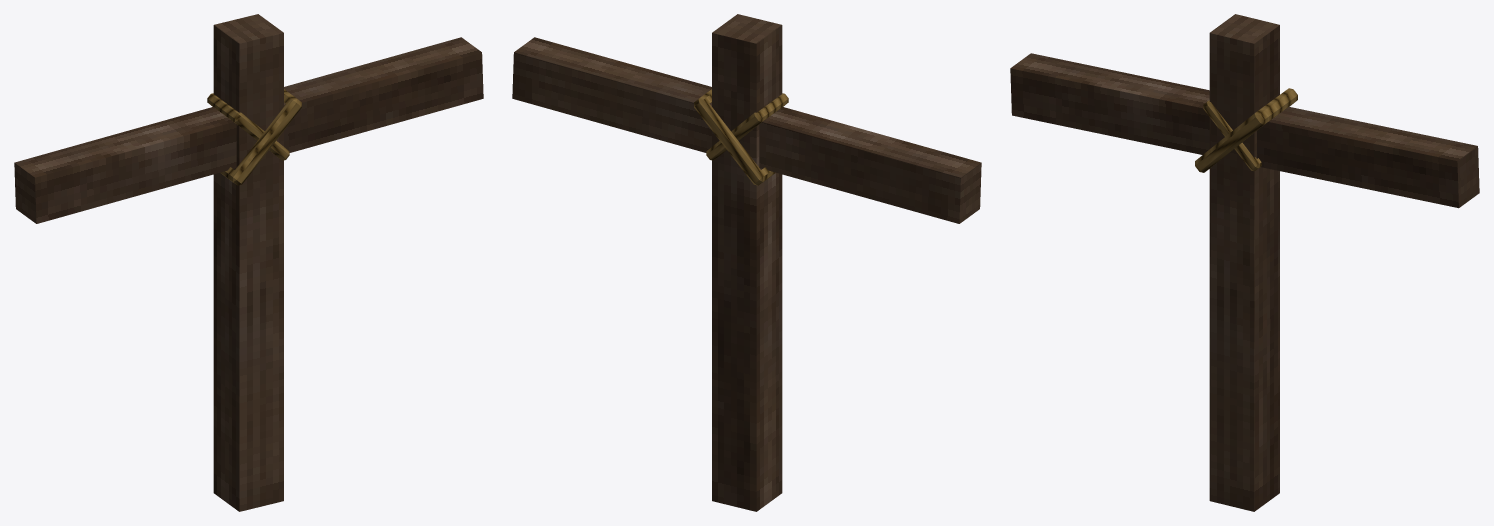
File: Grave_Cross.fbx
The picture shows the model from 3 angles, left to right: view 1: azimuth 30°, elevation 25°; view 2: azimuth 150°, elevation 25°; view 3: azimuth 330°, elevation 25°; orthographic projection.
Visible parts, largest first — view 1: Grave_Cross; view 2: Grave_Cross; view 3: Grave_Cross.
Boxes of the visible parts, bbox=[...] form: Grave_Cross: bbox=[14, 14, 483, 511]; Grave_Cross: bbox=[512, 14, 981, 511]; Grave_Cross: bbox=[1010, 14, 1479, 511].
Size of the model in its own units: 251 by 250 by 35.64.
Materials: 2 (2 with a texture image).
